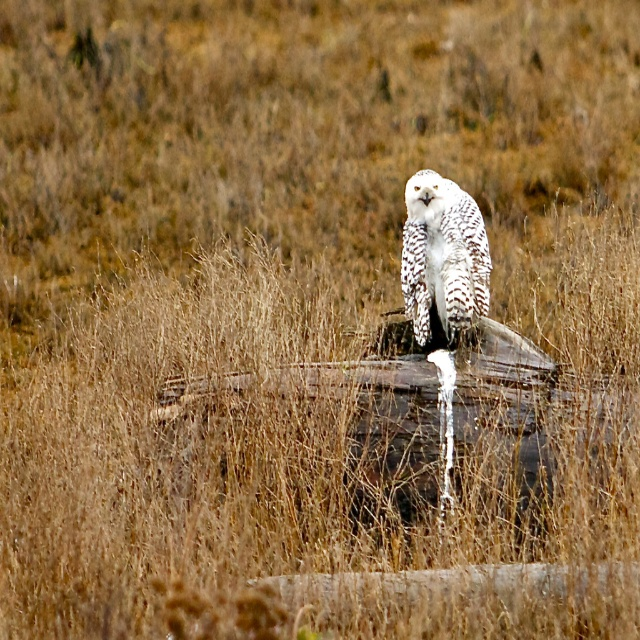Owl: (399, 171, 494, 358)
